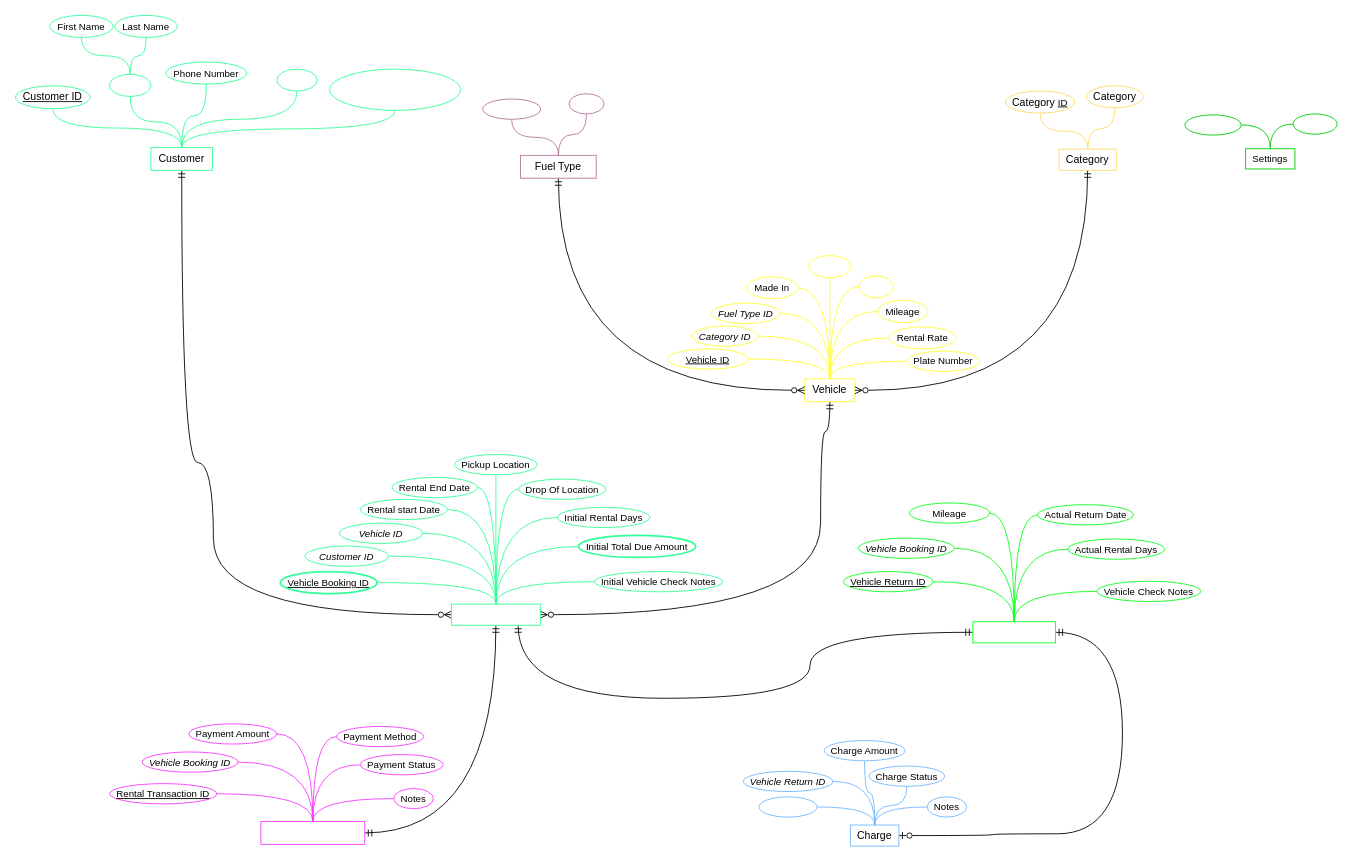
Some shapes in this 1353 by 862 pixel diagram are drawn without their labels. Here are the shapes that lost their labels. From the top down, the centre of each, then its label:
At pixel 130 84: "Name".
At pixel 296 79: "Email".
At pixel 395 89: "Drive's License Number".
At pixel 511 108: "Fuel ID".
At pixel 586 103: "Type".
At pixel 1314 123: "Setting".
At pixel 1212 124: "Setting ID".
At pixel 829 266: "Model".
At pixel 876 286: "Year".
At pixel 495 614: "Vehicle Booking".
At pixel 1014 632: "Vehicle Return".
At pixel 787 806: "Charge ID".
At pixel 312 832: "Rental Transaction".
